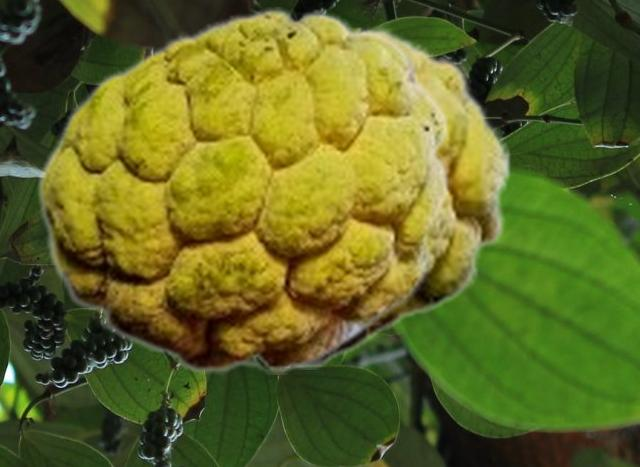atis: (35, 7, 450, 373), (262, 16, 511, 368)
